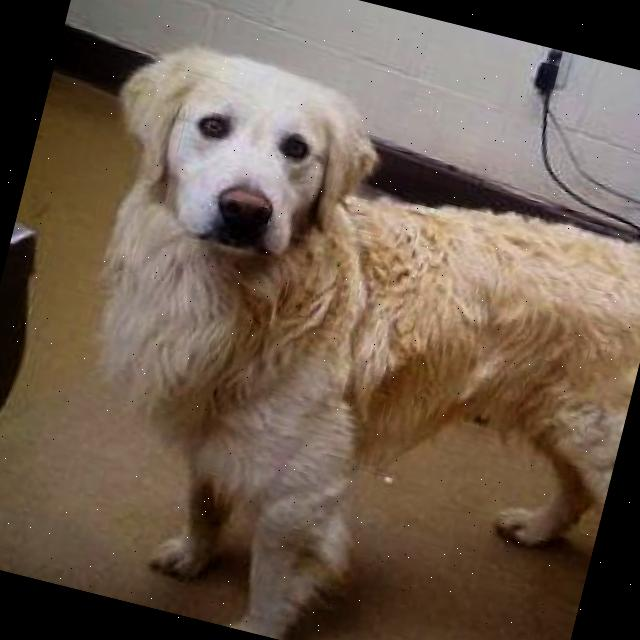golden_retriever_dog: (77, 18, 419, 332)
